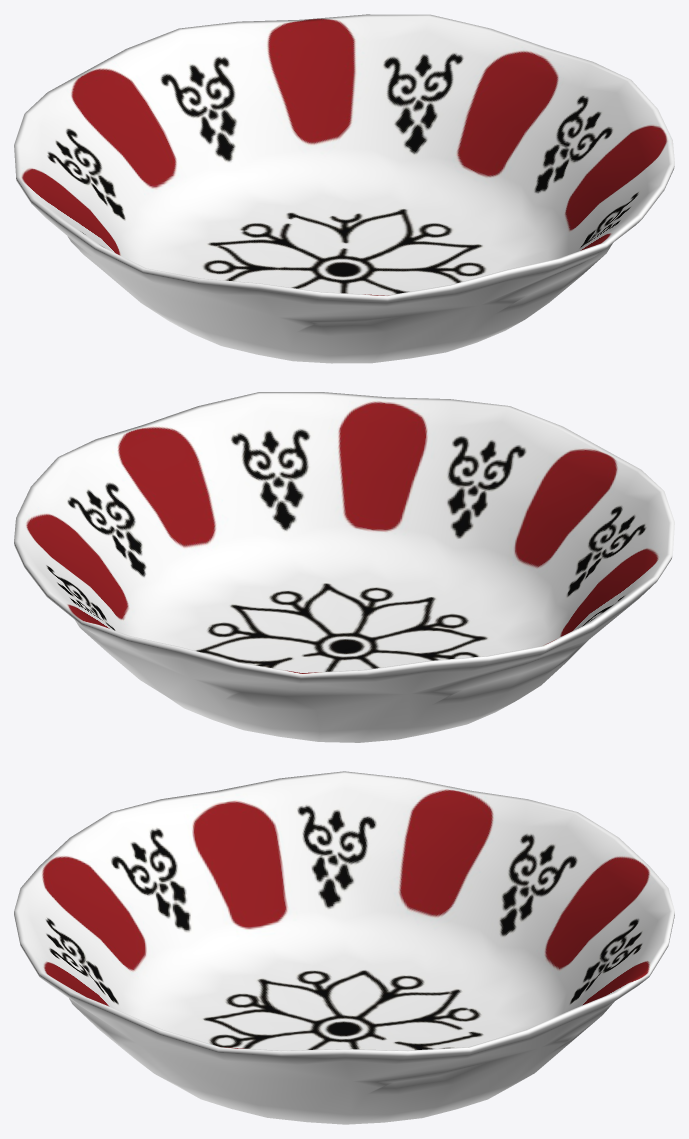
File: TeaGlassCoater.fbx
3 renders of one model, top to bottom at view 1: azimuth 30°, elevation 25°; view 2: azimuth 150°, elevation 25°; view 3: azimuth 270°, elevation 25°, orthographic.
Parts seen in each view (by area): view 1: TeaGlassCoater.001; view 2: TeaGlassCoater.001; view 3: TeaGlassCoater.001.
Part boxes in pixels (bbox=[...]): TeaGlassCoater.001: bbox=[14, 14, 674, 363]; TeaGlassCoater.001: bbox=[14, 392, 674, 742]; TeaGlassCoater.001: bbox=[14, 771, 674, 1124].
Size of the model in its own units: 51.36 by 11.66 by 51.36.
Materials: 1 (1 with a texture image).
